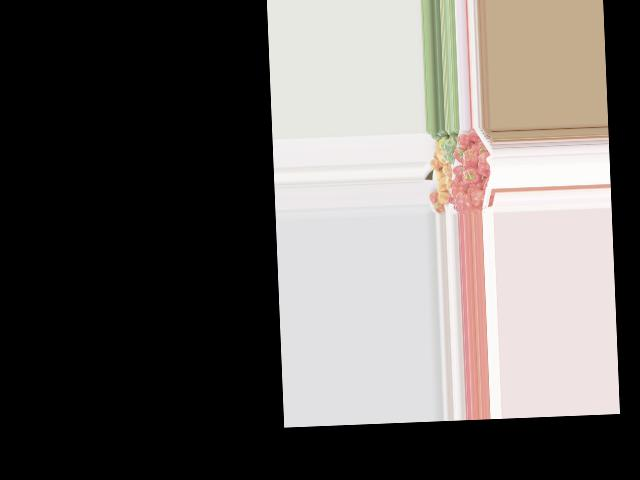bell_pepper: (477, 151, 492, 177)
